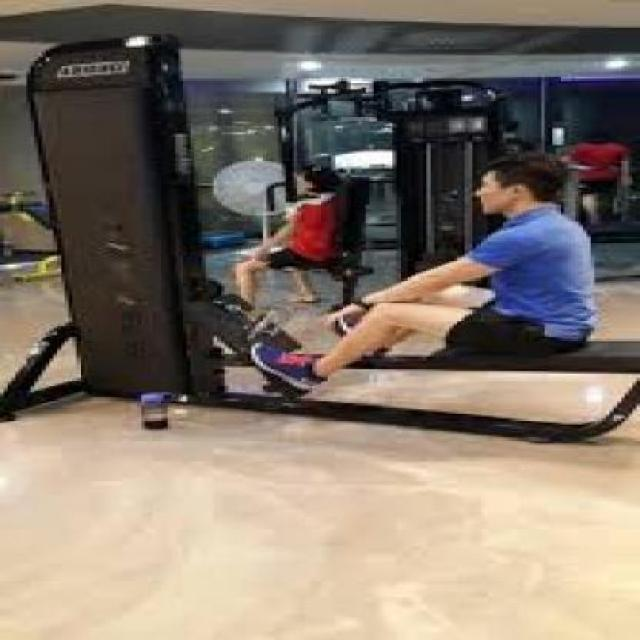Seated Cable Rows: (0, 12, 640, 470)
